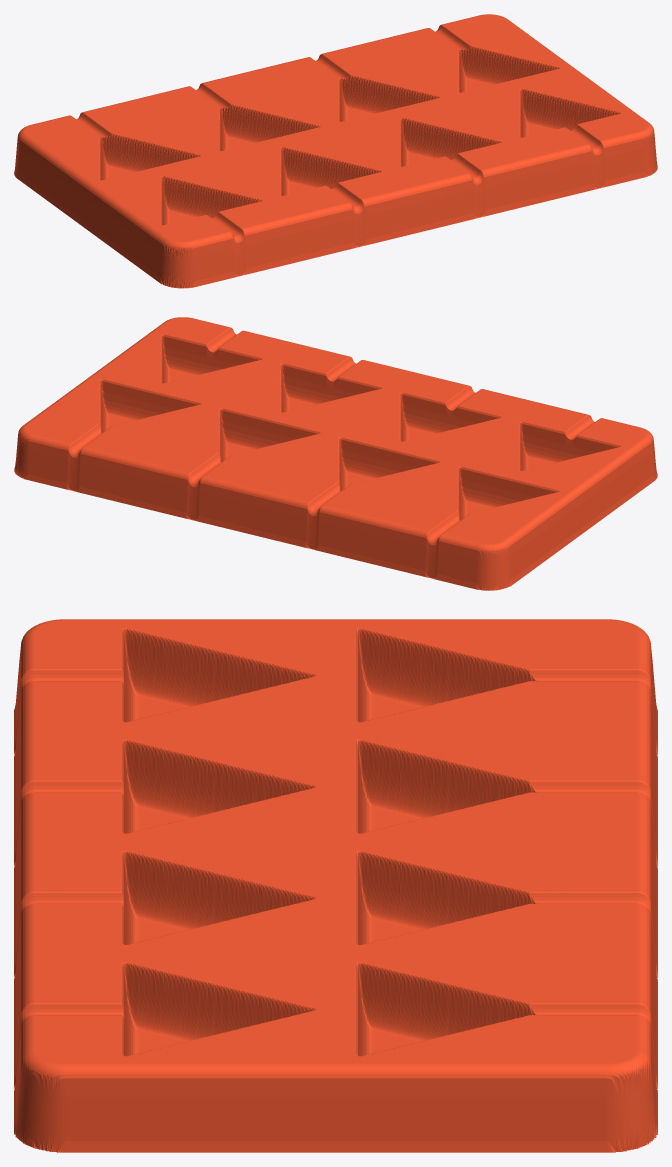
Rendered from mold.glb.
3 views of the same model, one above another, from view 1: azimuth 30°, elevation 25°; view 2: azimuth 150°, elevation 25°; view 3: azimuth 270°, elevation 25° (orthographic). The views are drawn at different scales.
Parts seen in each view (by area): view 1: geometry_0; view 2: geometry_0; view 3: geometry_0.
Boxes of the visible parts, x1,y1,x2,y2 form: geometry_0: [14, 14, 657, 288]; geometry_0: [14, 317, 657, 590]; geometry_0: [14, 619, 657, 1152].
Bounding box in the file's own units: 0.1907 × 0.0155 × 0.1126.
